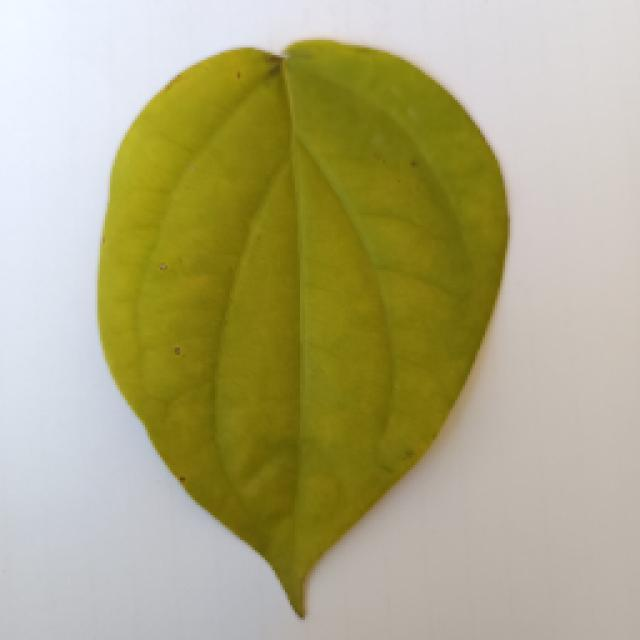slow-decline: (75, 42, 530, 620)
